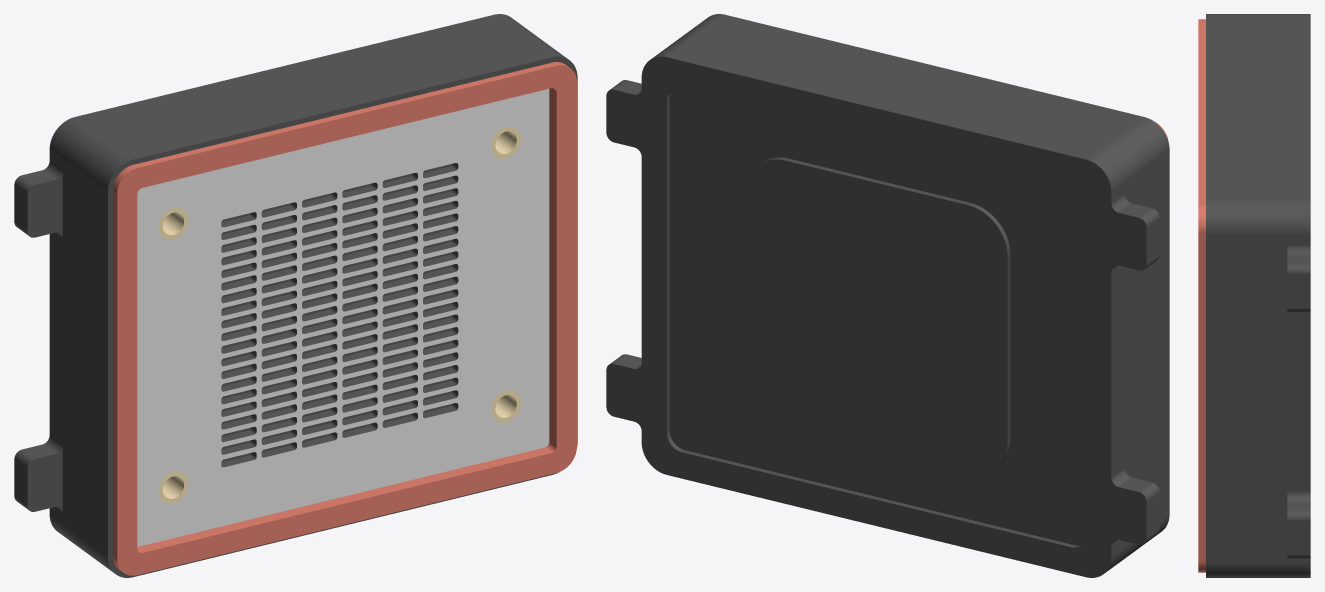
File: PRV CAD.glb
3 renders of one model, left to right at view 1: azimuth 30°, elevation 25°; view 2: azimuth 150°, elevation 25°; view 3: azimuth 270°, elevation 25°, orthographic. The views are drawn at different scales.
Visible parts, largest first — view 1: Node4, Node1, Node3, Node2; view 2: Node1; view 3: Node1, Node3.
Boxes of the visible parts, x1=… form: Node4: x1=137, y1=89, x2=549, y2=546; Node1: x1=14, y1=14, x2=577, y2=577; Node3: x1=113, y1=62, x2=576, y2=575; Node2: x1=158, y1=126, x2=521, y2=503; Node1: x1=606, y1=14, x2=1169, y2=577; Node1: x1=1206, y1=14, x2=1310, y2=577; Node3: x1=1198, y1=19, x2=1205, y2=572.
Size of the model in its own units: 107 by 79.2 by 21.5.
